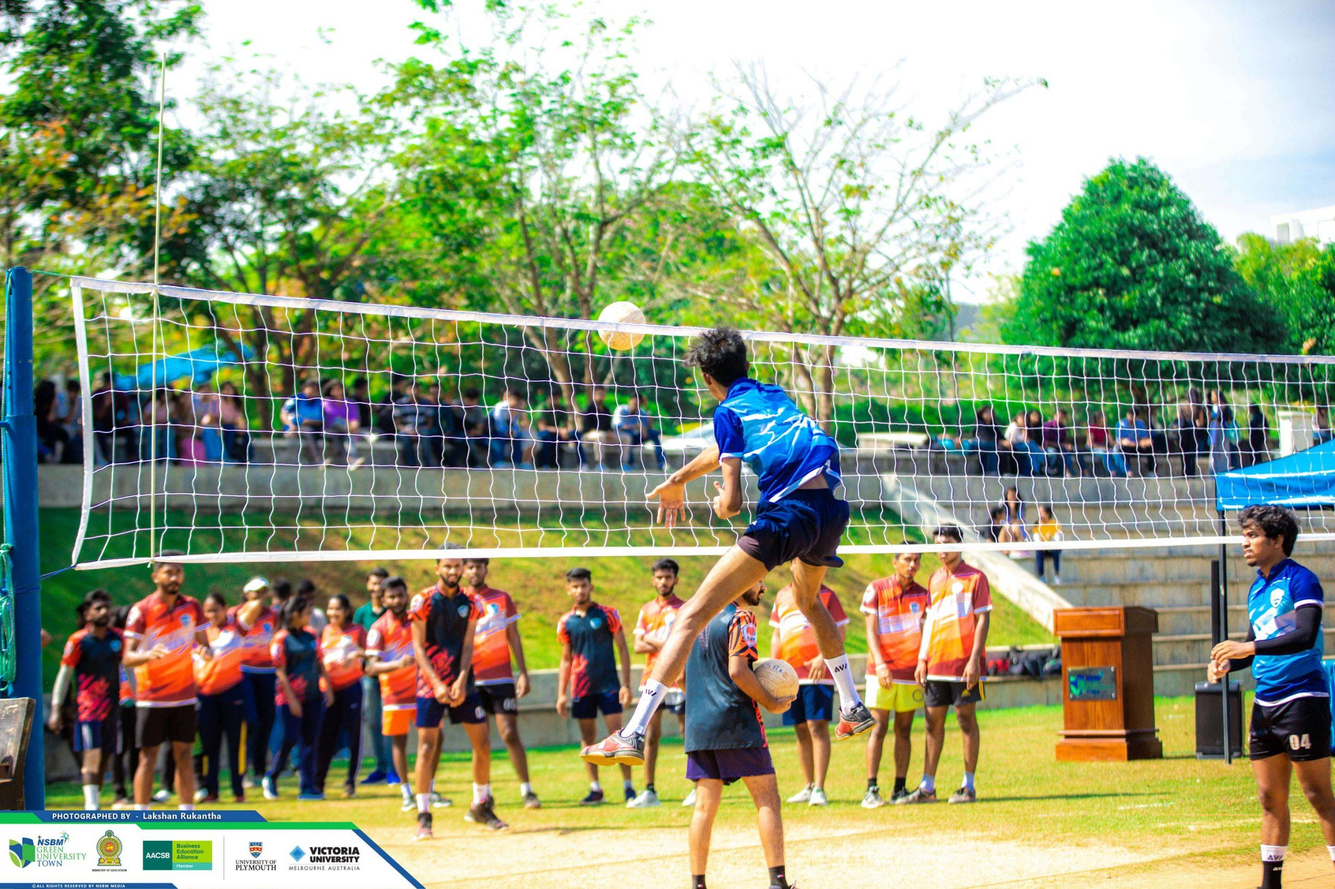ballon_volley: (594, 298, 648, 352), (752, 657, 800, 713)
